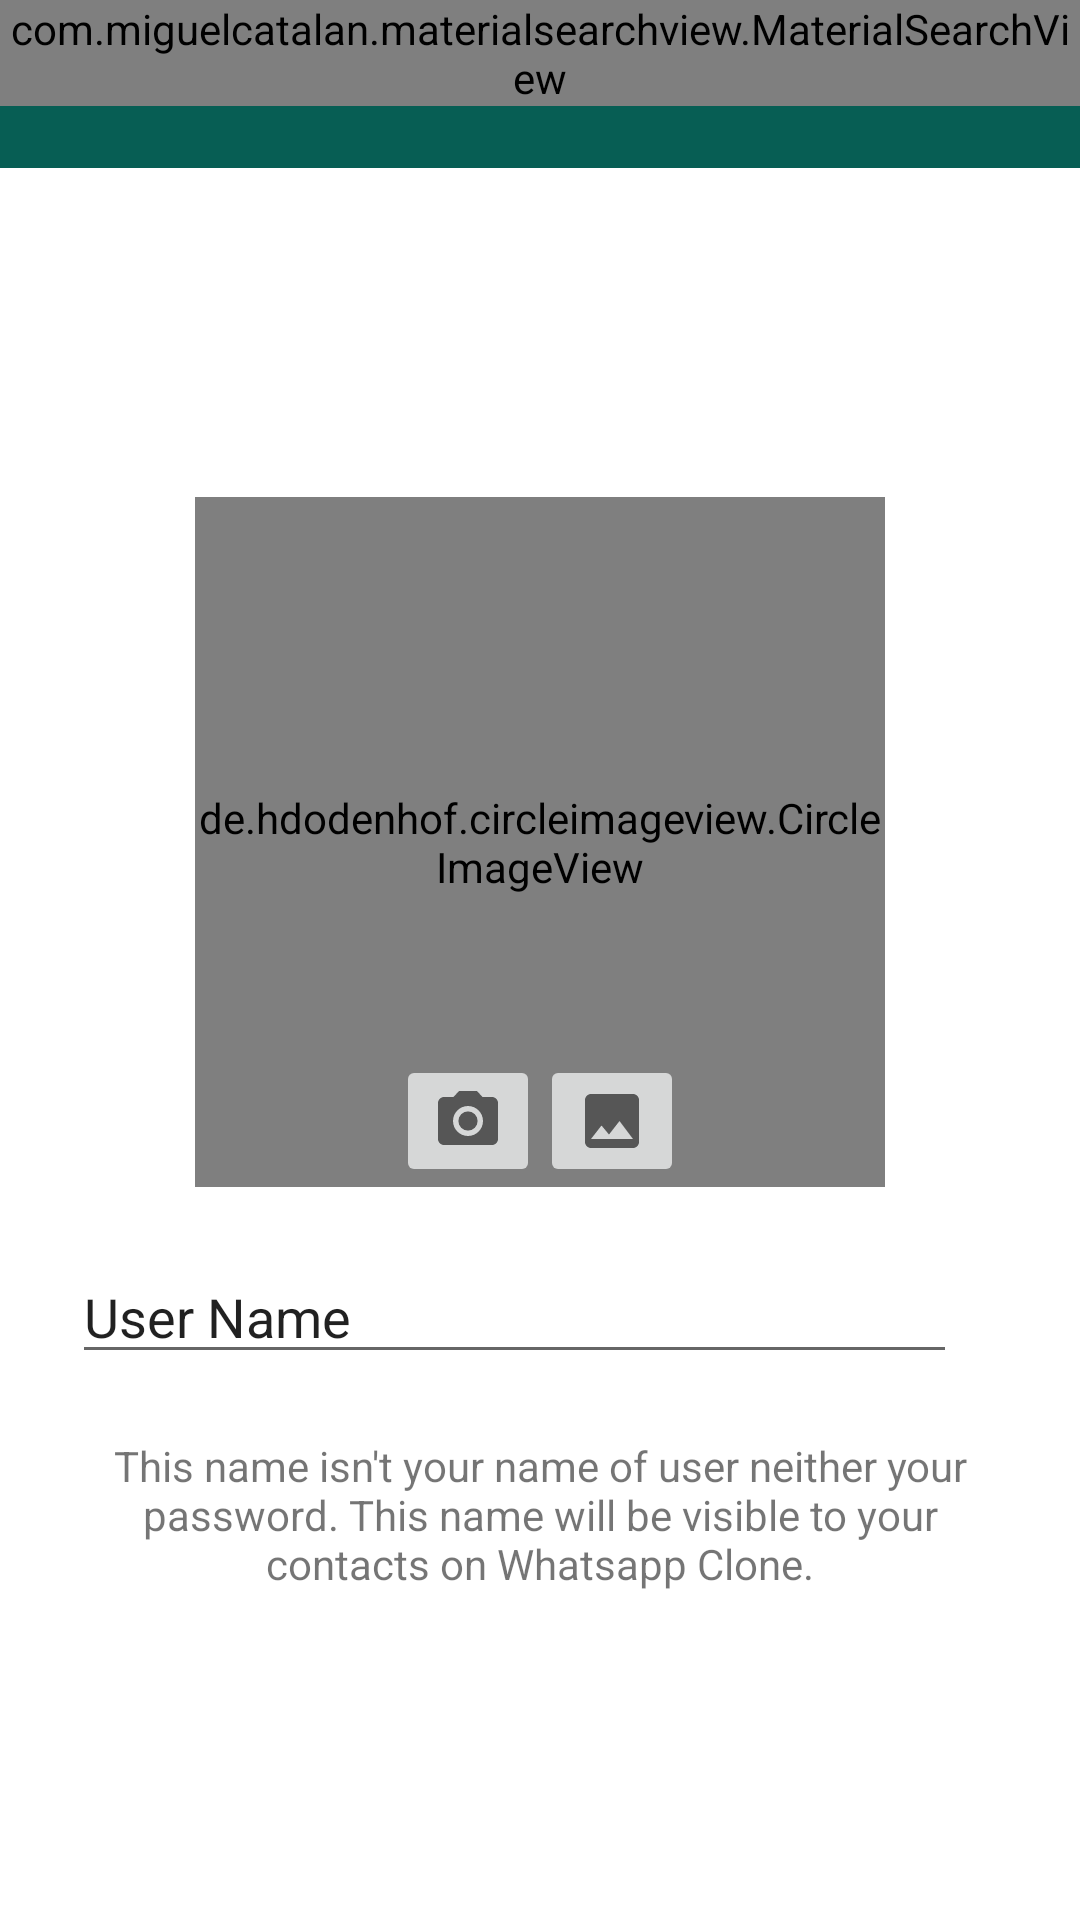

Locate icon controls on the screen. Image size 1080 × 1920, boxes as (x1, y1, x2, y2).
photo: (552, 1073, 672, 1169)
photo camera: (408, 1073, 528, 1169)
